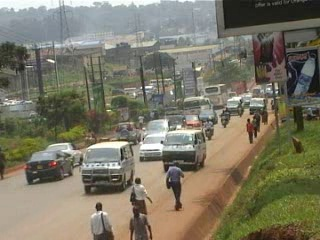Car: (22, 147, 74, 186), (44, 141, 85, 166), (137, 131, 168, 164), (110, 119, 143, 147), (142, 116, 175, 138), (159, 108, 187, 132), (183, 110, 203, 134), (196, 107, 220, 125)
Motorcycle: (204, 115, 214, 141), (84, 128, 97, 147), (217, 109, 228, 129), (237, 98, 245, 116), (223, 105, 232, 120)
